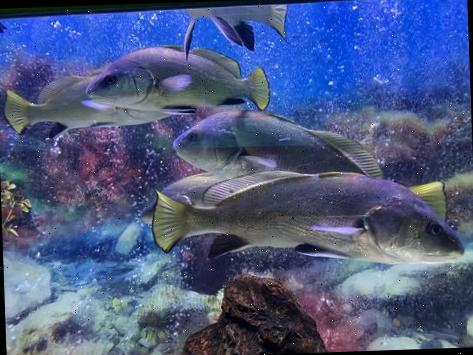fish: (146, 161, 465, 274), (170, 103, 383, 185), (85, 41, 270, 118), (3, 72, 169, 135), (180, 0, 289, 59)
